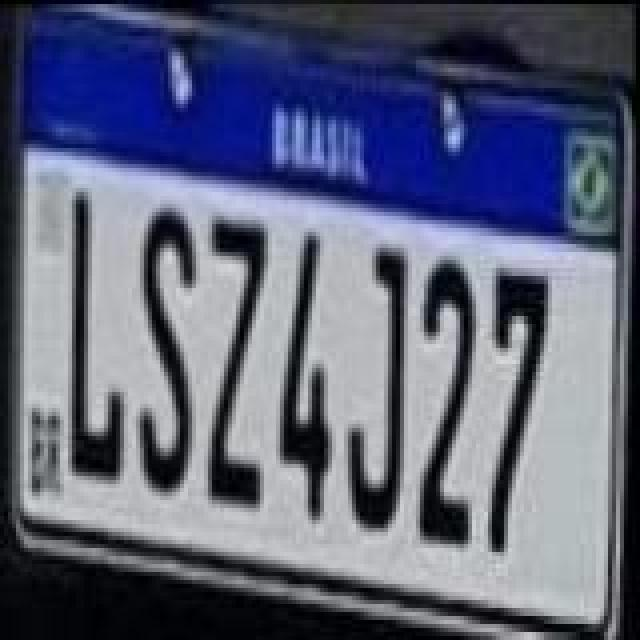2: (414, 254, 482, 546)
4: (276, 228, 336, 528)
7: (484, 262, 556, 554)
J: (342, 240, 410, 532)
L: (64, 190, 124, 482)
S: (132, 204, 200, 496)
Z: (204, 214, 272, 514)
